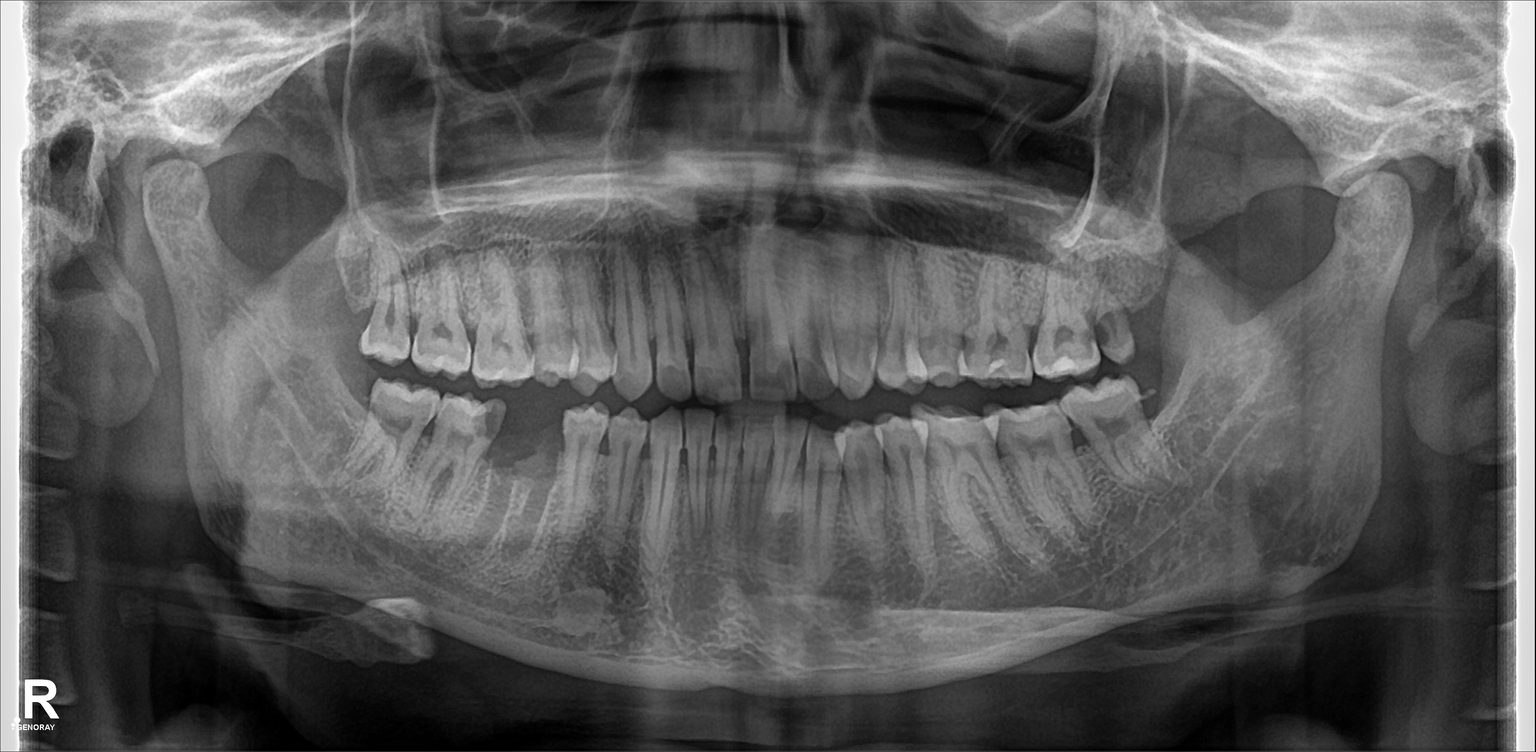Dental Caries: (469, 398, 502, 438), (950, 324, 976, 364), (989, 335, 1024, 358), (1050, 329, 1077, 350), (1095, 315, 1114, 343)
Missing Tooth: (507, 410, 556, 512), (324, 246, 369, 350)
